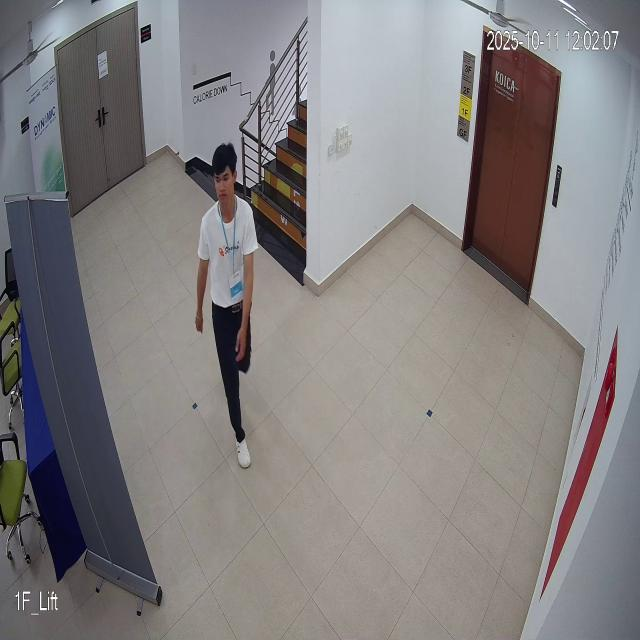face: (205, 128, 245, 217)
